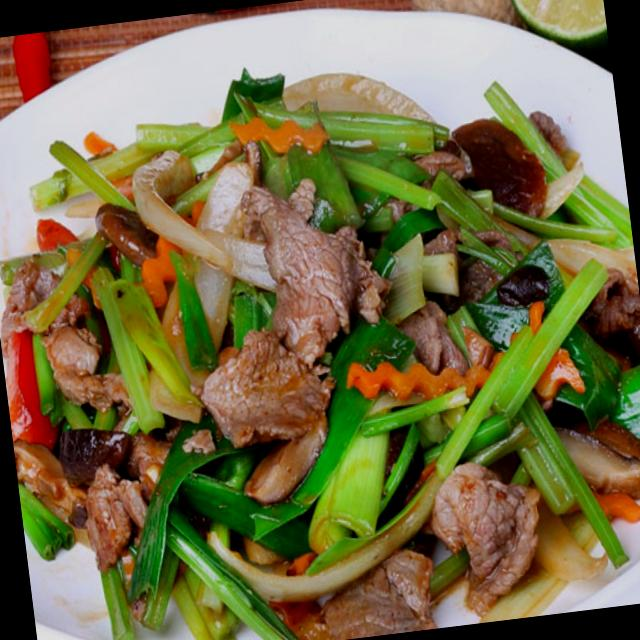bo xao: (0, 69, 640, 640)
